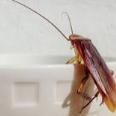cockroach: (65, 32, 115, 112)
